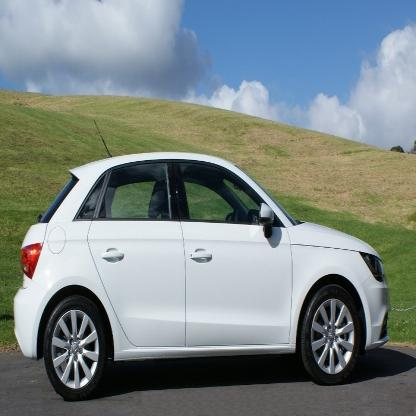Vehicle: (10, 117, 393, 405)
